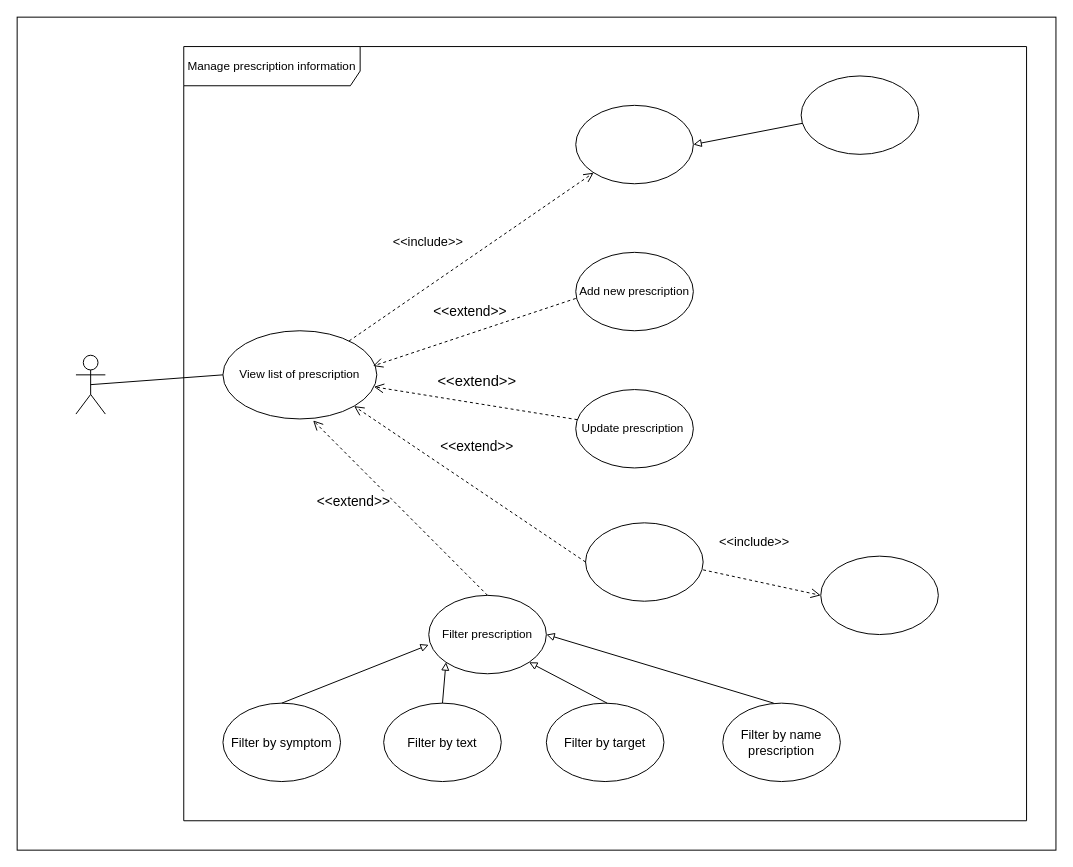
Image size: 1073x867. Some labels were removed from this diagram. The shapes that lost their labels are listed below. From the top down, each one's centre as x and y in pixels, then its label:
(859,114): Login by Facebook
(634,144): Log in
(90,384): Admin/Employee
(644,561): Delete prescription
(879,595): Confirm delete
